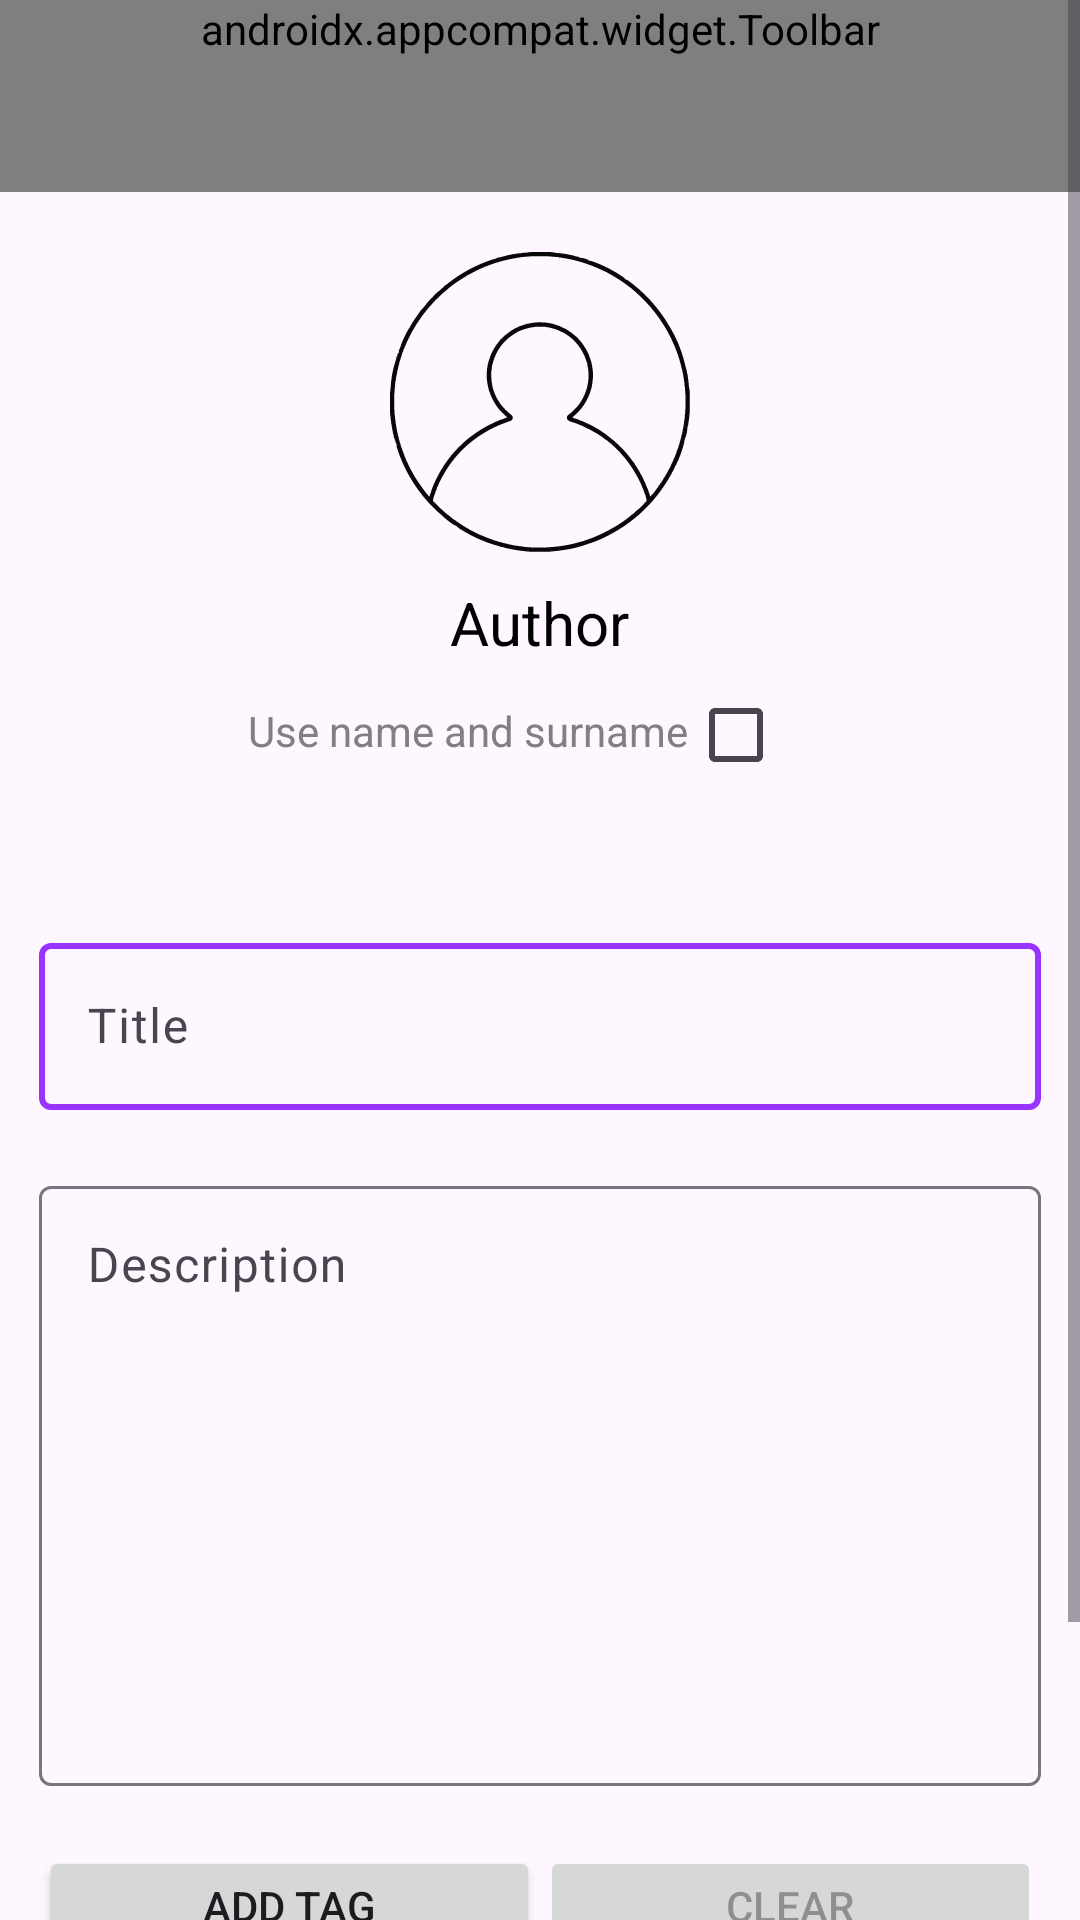

Screen size 1080 × 1920. Icon name, then its box in pixels as (x1, y1, x2, y2):
Click on image to choose avatar: (390, 252, 690, 552)
